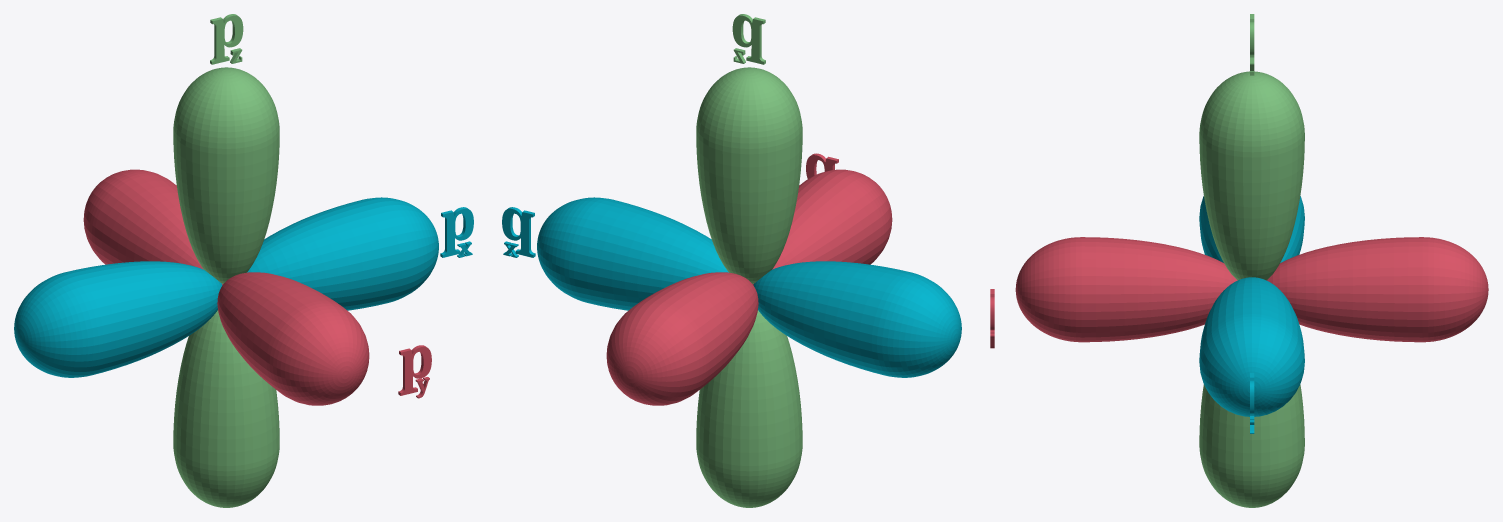
The model's file is p-orbitals.glb.
The picture shows the model from 3 angles, left to right: view 1: azimuth 30°, elevation 25°; view 2: azimuth 150°, elevation 25°; view 3: azimuth 270°, elevation 25°; orthographic projection.
Parts seen in each view (by area): view 1: Mesh_Mesh_head_geo.001_lambert2SG.001; view 2: Mesh_Mesh_head_geo.001_lambert2SG.001; view 3: Mesh_Mesh_head_geo.001_lambert2SG.001.
Part boxes in pixels (x1=…): Mesh_Mesh_head_geo.001_lambert2SG.001: x1=14, y1=14, x2=473, y2=507; Mesh_Mesh_head_geo.001_lambert2SG.001: x1=502, y1=14, x2=961, y2=507; Mesh_Mesh_head_geo.001_lambert2SG.001: x1=990, y1=14, x2=1488, y2=507.
Size of the model in its own units: 118 by 121 by 113.
